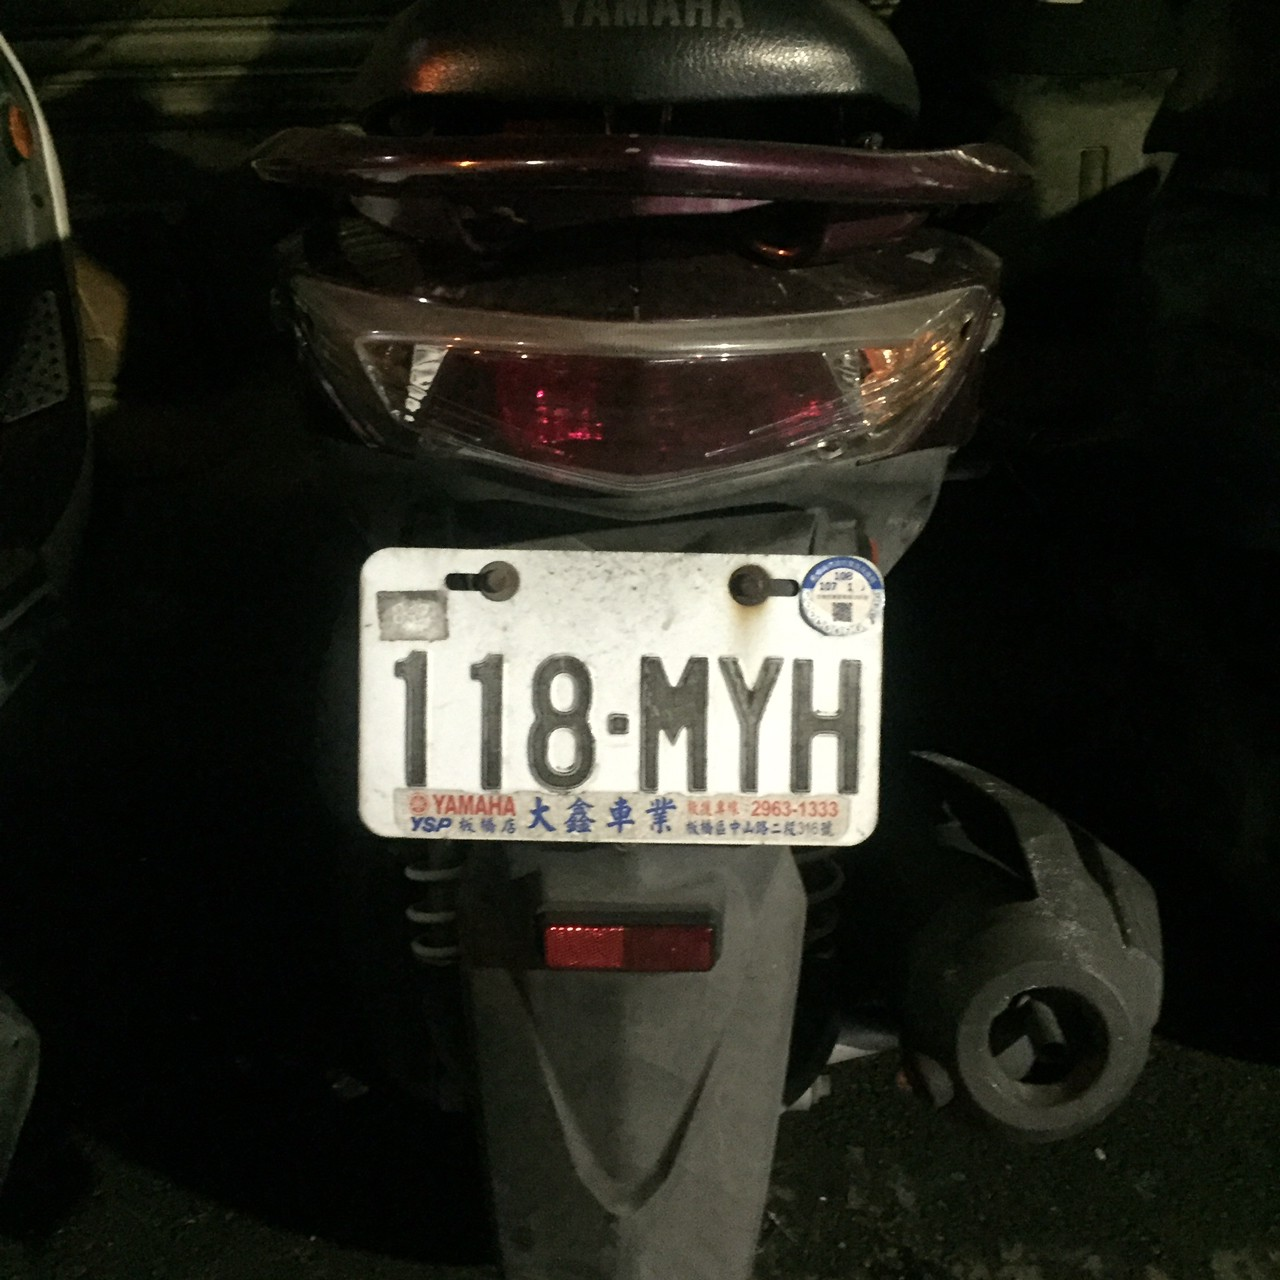LP: (355, 542, 877, 847)
